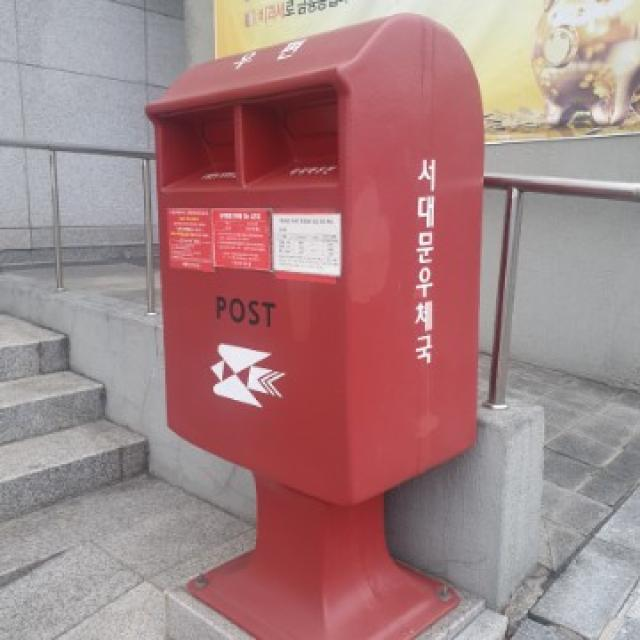Post Box: (147, 11, 483, 640)
